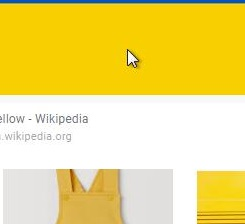cursor: (125, 47, 139, 69)
